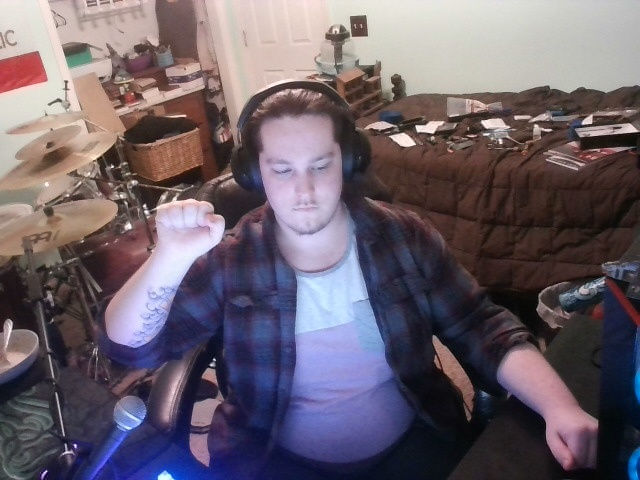yes: (135, 182, 235, 282)
